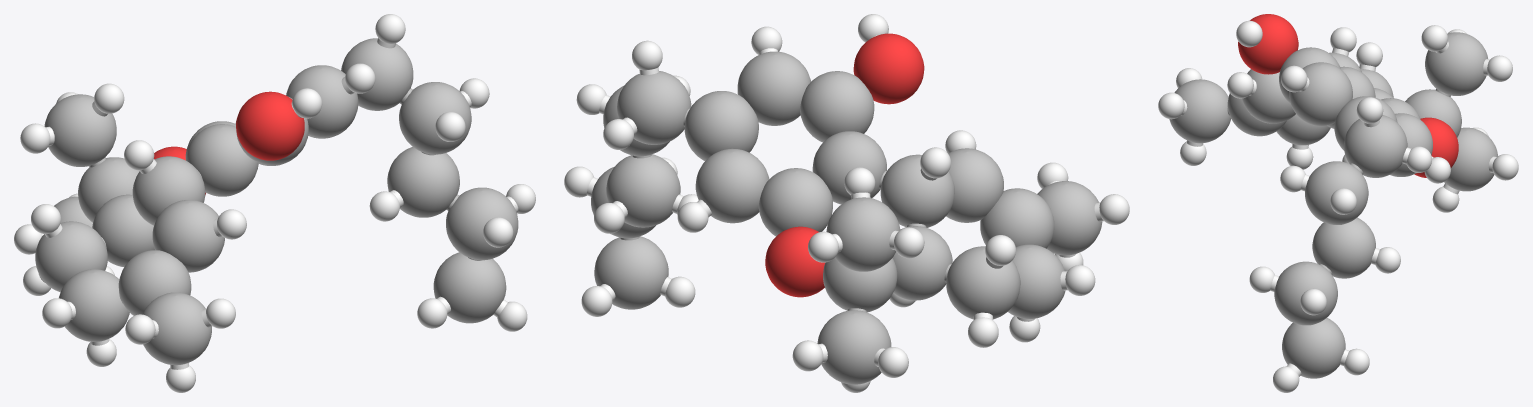
The model's file is THC.glb.
The picture shows the model from 3 angles, left to right: view 1: azimuth 30°, elevation 25°; view 2: azimuth 150°, elevation 25°; view 3: azimuth 270°, elevation 25°; orthographic projection. The views are drawn at different scales.
Visible parts, largest first — view 1: Carbon_ball_34, Carbon_ball_38, Carbon_ball_30, Carbon_ball_24, Oxygen_ball_2, Carbon_ball_36, Carbon_ball_20, Carbon_ball_10, Carbon_ball_32, Carbon_ball_28, Carbon_ball_18, Carbon_ball_22 (+29 smaller); view 2: Carbon_ball_6, Carbon_ball_34, Carbon_ball_26, Carbon_ball_30, Carbon_ball_2, Carbon_ball, Carbon_ball_40, Carbon_ball_38, Carbon_ball_4, Carbon_ball_8, Carbon_ball_18, Oxygen_ball_2 (+34 smaller); view 3: Carbon_ball_26, Carbon_ball_30, Carbon_ball_38, Carbon_ball_34, Carbon_ball_36, Carbon_ball_2, Carbon_ball_32, Carbon_ball_28, Oxygen_ball_2, Carbon_ball_40, Carbon_ball_24, Carbon_ball_12 (+32 smaller).
Part boxes in pixels (left/top/right/bottom): Carbon_ball_34: left=433, top=252, right=506, bottom=323; Carbon_ball_38: left=44, top=94, right=116, bottom=166; Carbon_ball_30: left=387, top=147, right=459, bottom=217; Carbon_ball_24: left=152, top=200, right=224, bottom=272; Oxygen_ball_2: left=236, top=91, right=304, bottom=160; Carbon_ball_36: left=142, top=292, right=211, bottom=365; Carbon_ball_20: left=59, top=269, right=129, bottom=341; Carbon_ball_10: left=186, top=124, right=258, bottom=196; Carbon_ball_32: left=446, top=187, right=518, bottom=260; Carbon_ball_28: left=399, top=82, right=471, bottom=154; Carbon_ball_18: left=35, top=221, right=107, bottom=292; Carbon_ball_22: left=118, top=250, right=191, bottom=315; Carbon_ball_6: left=695, top=148, right=769, bottom=223; Carbon_ball_34: left=594, top=236, right=668, bottom=309; Carbon_ball_26: left=617, top=71, right=691, bottom=144; Carbon_ball_30: left=606, top=154, right=680, bottom=227; Carbon_ball_2: left=737, top=51, right=810, bottom=125; Carbon_ball: left=800, top=71, right=874, bottom=142; Carbon_ball_40: left=817, top=310, right=891, bottom=384; Carbon_ball_38: left=826, top=197, right=900, bottom=271; Carbon_ball_4: left=684, top=91, right=758, bottom=160; Carbon_ball_8: left=758, top=168, right=832, bottom=236; Carbon_ball_18: left=946, top=246, right=1020, bottom=319; Oxygen_ball_2: left=853, top=33, right=924, bottom=104; Carbon_ball_26: left=1344, top=115, right=1407, bottom=177; Carbon_ball_30: left=1312, top=217, right=1375, bottom=278; Carbon_ball_38: left=1425, top=32, right=1487, bottom=95; Carbon_ball_34: left=1282, top=318, right=1345, bottom=378; Carbon_ball_36: left=1169, top=79, right=1230, bottom=143; Carbon_ball_2: left=1289, top=62, right=1352, bottom=126; Carbon_ball_32: left=1274, top=261, right=1337, bottom=325; Carbon_ball_28: left=1305, top=161, right=1368, bottom=224; Oxygen_ball_2: left=1238, top=14, right=1298, bottom=74; Carbon_ball_40: left=1444, top=127, right=1497, bottom=191; Carbon_ball_24: left=1242, top=69, right=1295, bottom=123; Carbon_ball_12: left=1405, top=89, right=1461, bottom=137.
Size of the model in its own units: 12.26 by 7.26 by 8.69.
